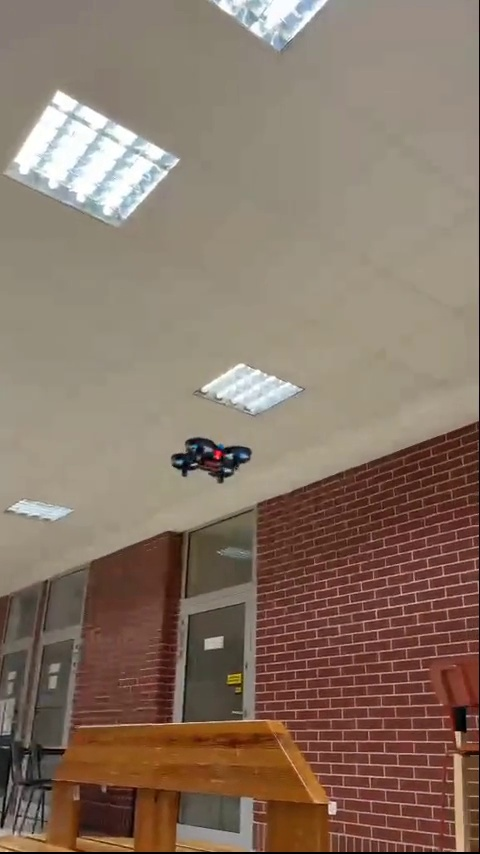drone: (169, 434, 250, 483)
